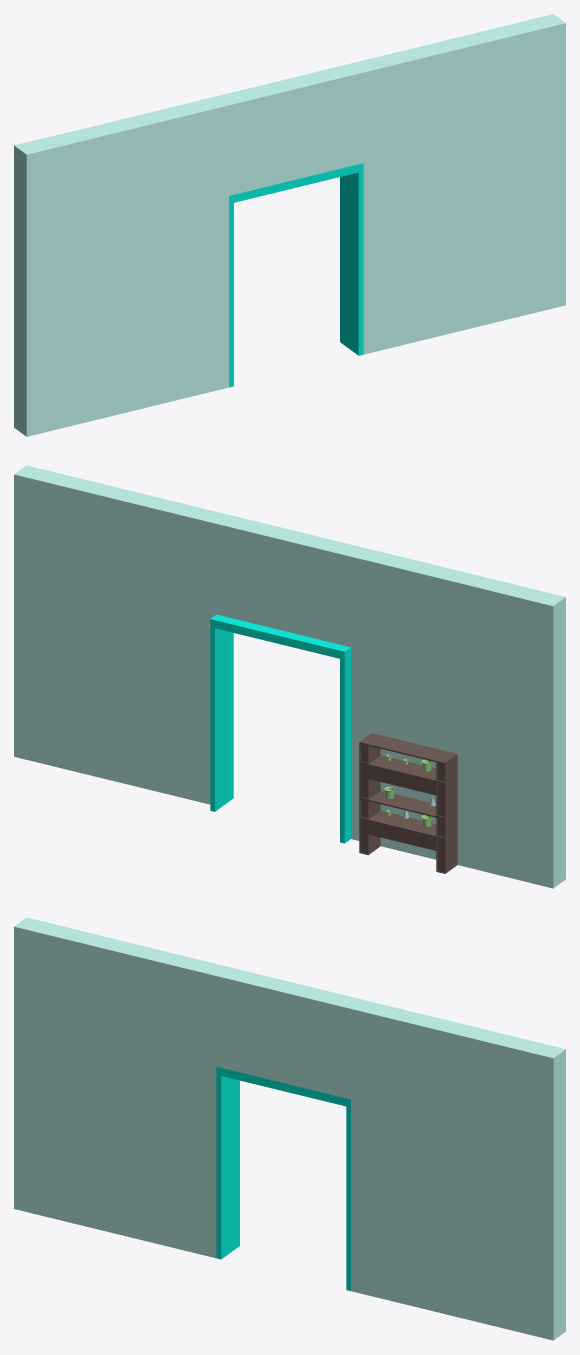
The model's file is BigRoomDoorVariation2.fbx.
3 views of the same model, one above another, from view 1: azimuth 30°, elevation 25°; view 2: azimuth 150°, elevation 25°; view 3: azimuth 330°, elevation 25° (orthographic).
Visible parts, largest first — view 1: Wall, DoorFrame; view 2: Wall, DoorFrame, Cube.078, Cube.079; view 3: Wall, DoorFrame.
Part boxes in pixels (left/top/right/bottom): Wall: left=14, top=14, right=565, bottom=436; DoorFrame: left=229, top=163, right=363, bottom=387; Wall: left=14, top=465, right=565, bottom=888; DoorFrame: left=210, top=614, right=350, bottom=843; Cube.078: left=359, top=733, right=457, bottom=818; Cube.079: left=359, top=791, right=457, bottom=873; Wall: left=14, top=917, right=565, bottom=1340; DoorFrame: left=216, top=1066, right=350, bottom=1290.
Bounding box in the file's own units: 100 × 50 × 7.99.
